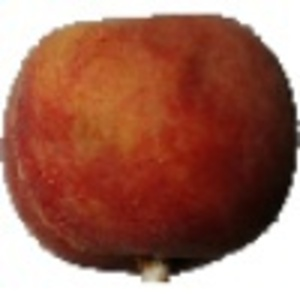pêssego: (1, 1, 300, 287)
